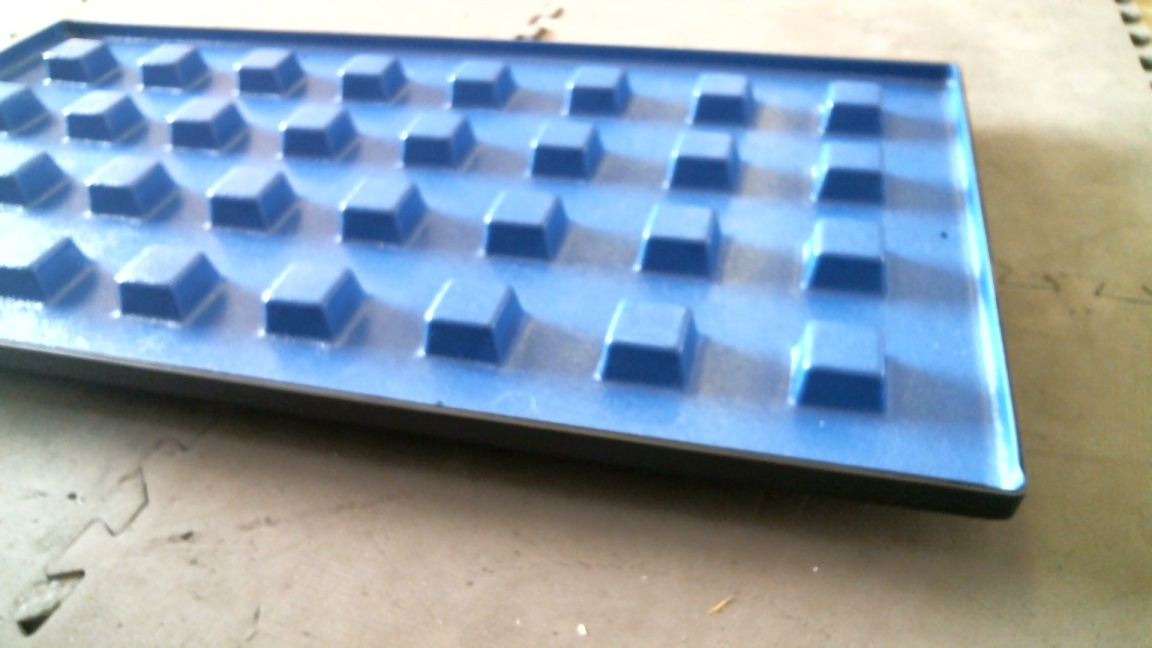blue_foundation: (1, 16, 1024, 527)
